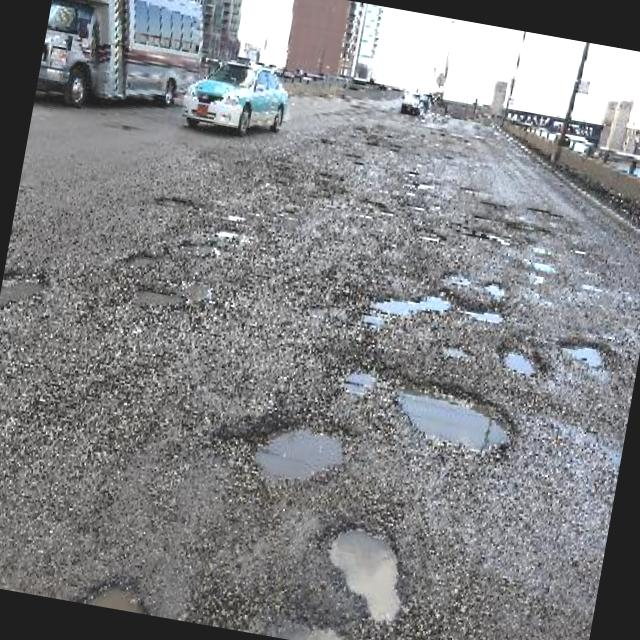Lubang: (397, 377, 517, 462), (329, 530, 398, 620), (256, 429, 342, 477), (0, 268, 50, 315), (80, 578, 147, 610), (559, 336, 609, 371), (371, 296, 450, 314), (498, 347, 547, 375), (133, 283, 186, 306), (465, 312, 502, 324), (484, 287, 504, 298)
